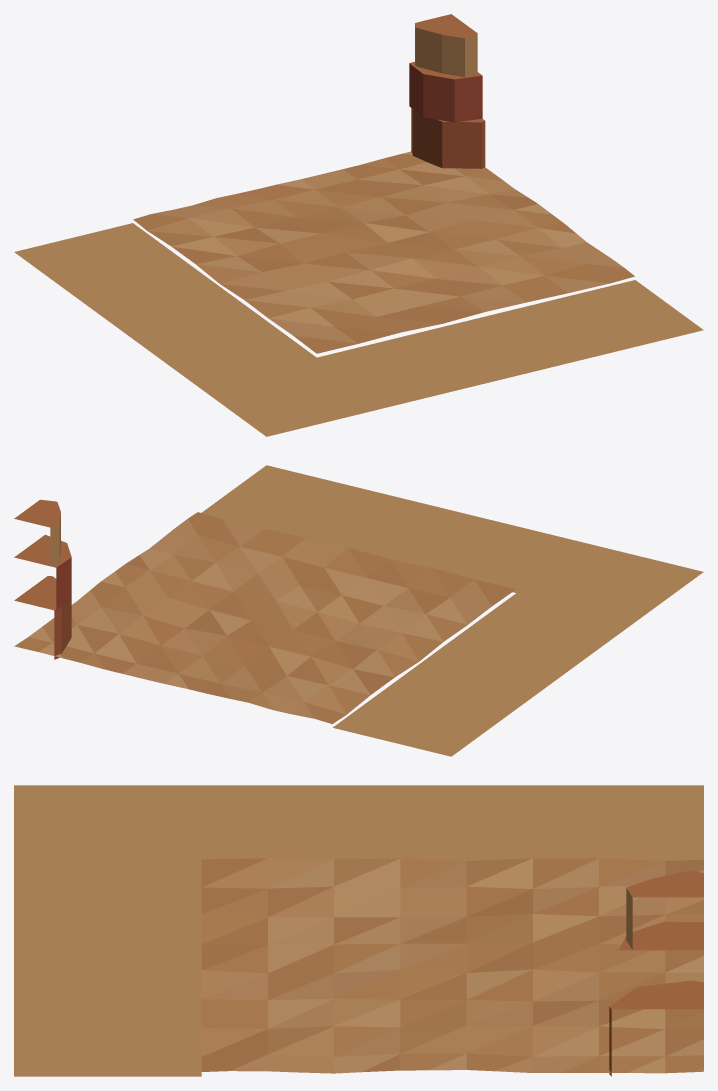
The picture shows the model from 3 angles, top to bottom: view 1: azimuth 30°, elevation 25°; view 2: azimuth 150°, elevation 25°; view 3: azimuth 270°, elevation 25°; orthographic projection. The views are drawn at different scales.
Parts seen in each view (by area): view 1: baked; view 2: baked; view 3: baked.
Boxes of the visible parts, <box> form: baked: <box>14,14,703,436</box>; baked: <box>14,465,703,756</box>; baked: <box>14,785,703,1076</box>.
Bounding box in the file's own units: 125 × 35.84 × 125.
